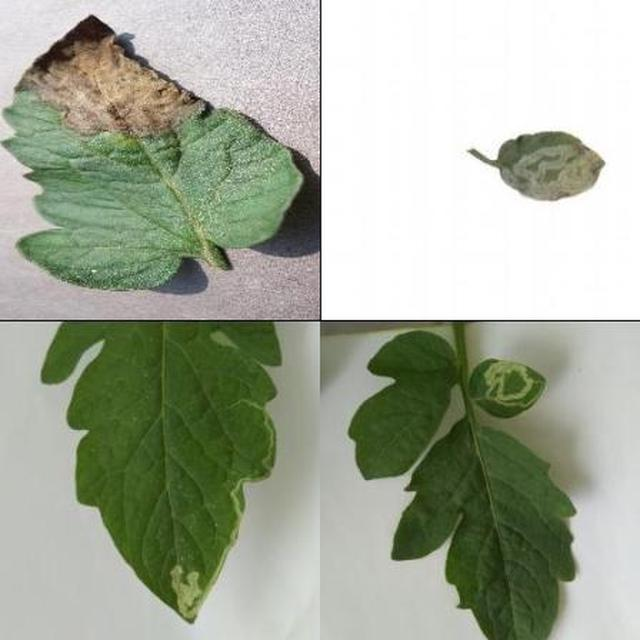Late Blight Leaf: (110, 90, 640, 640)
